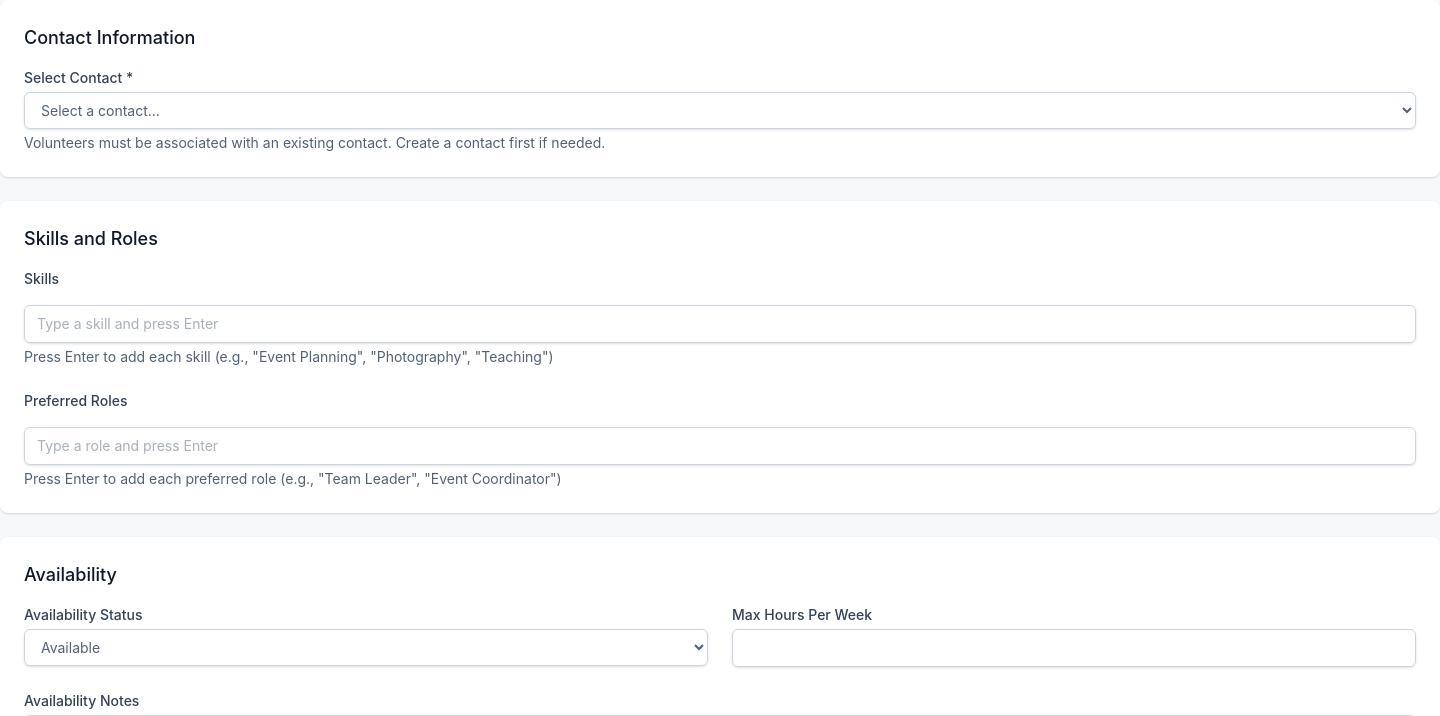
VolunteerForm › Skills Management › trims whitespace from skill names
The image size is (1440, 716).
Type "  Fundraising  " into the field labelled "Skills" at [720, 324], box [24,305,1416,343]
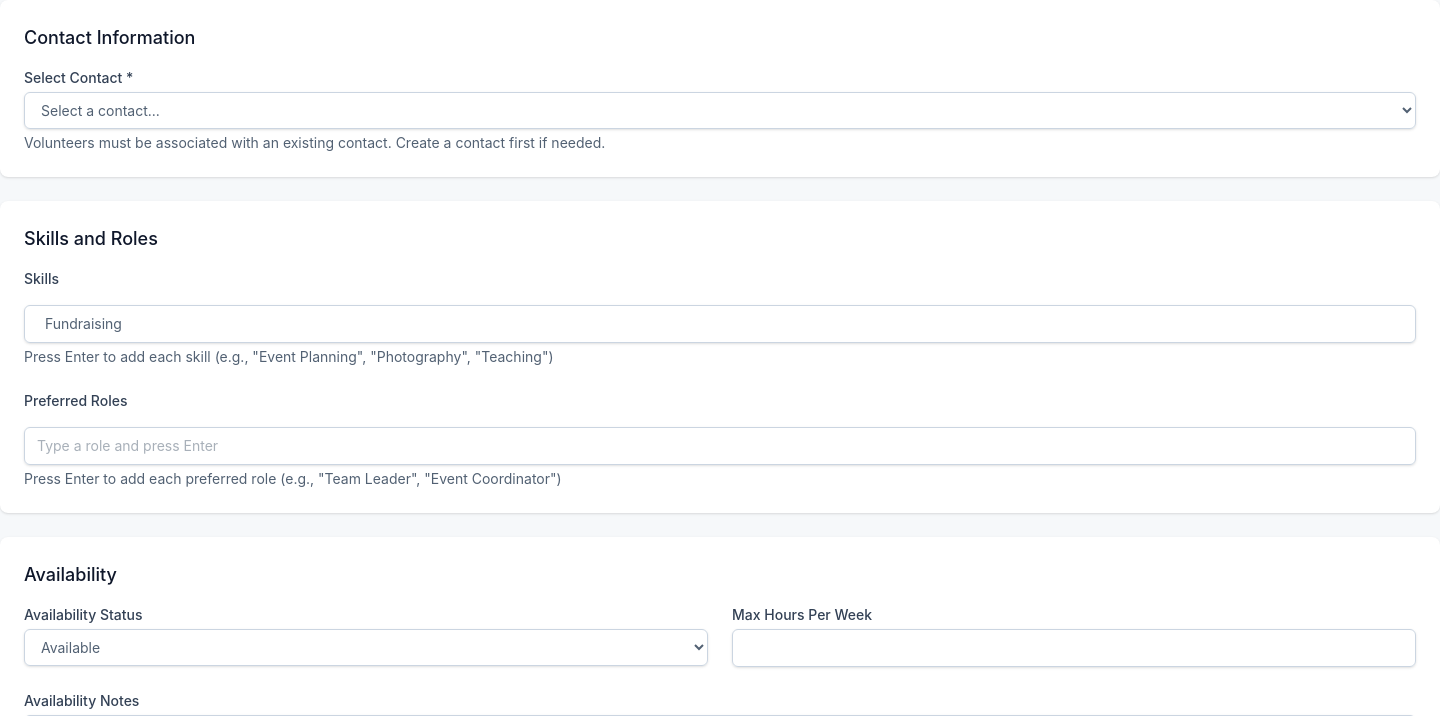
Press Enter in the field labelled "Skills", box [24,305,1416,343]
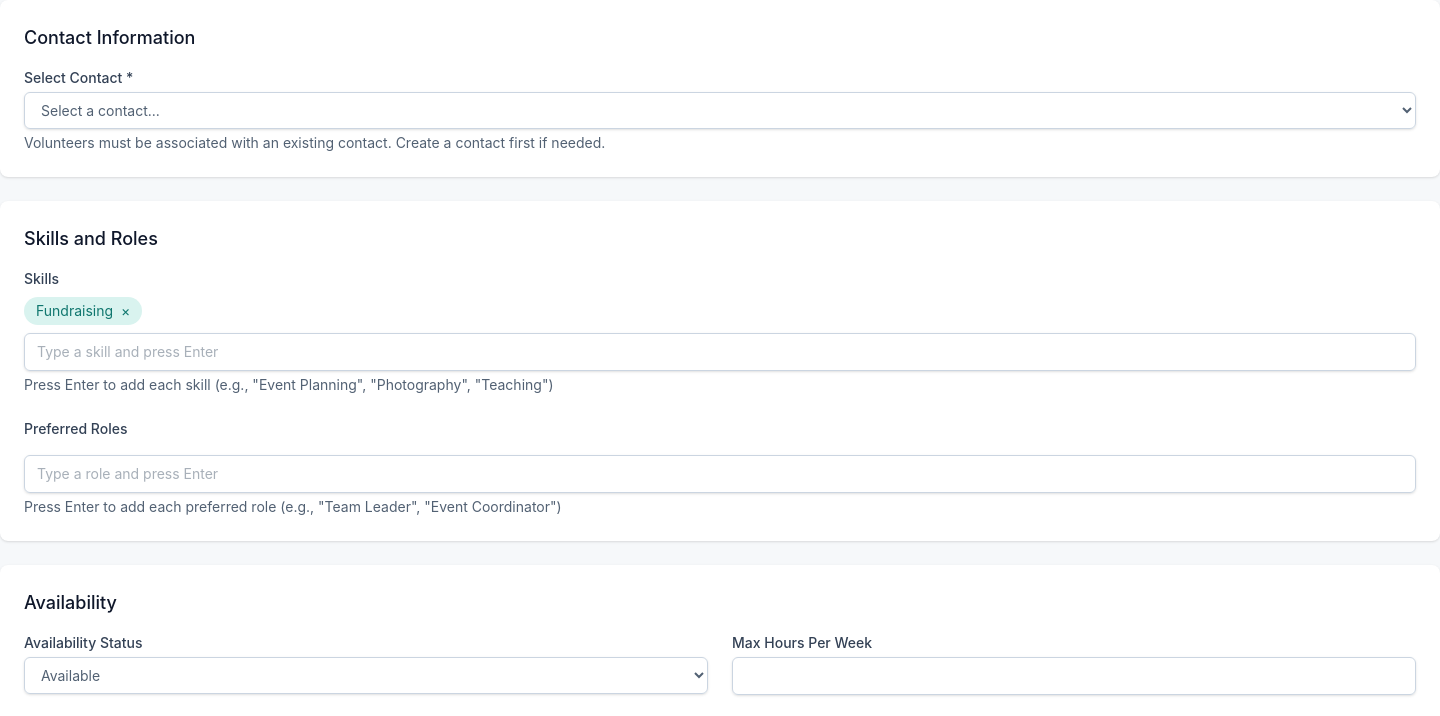
Now the text "Fundraising" is shown, box [36,302,113,319]
